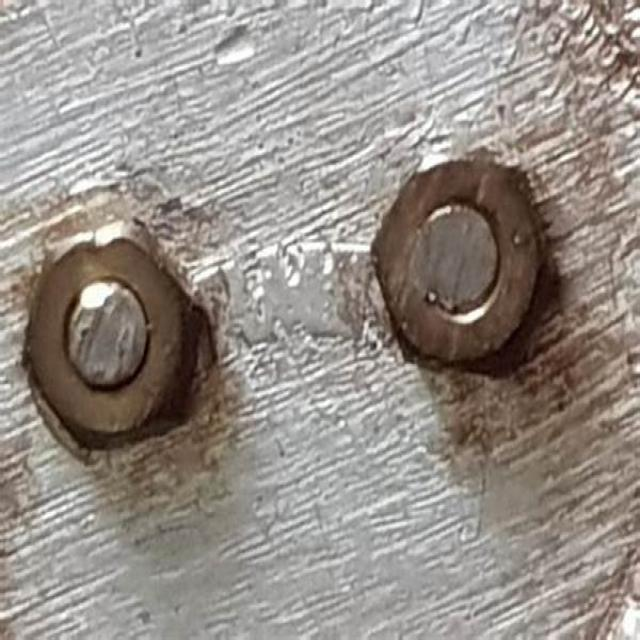bolt nut: (24, 218, 210, 458), (368, 146, 557, 378)
